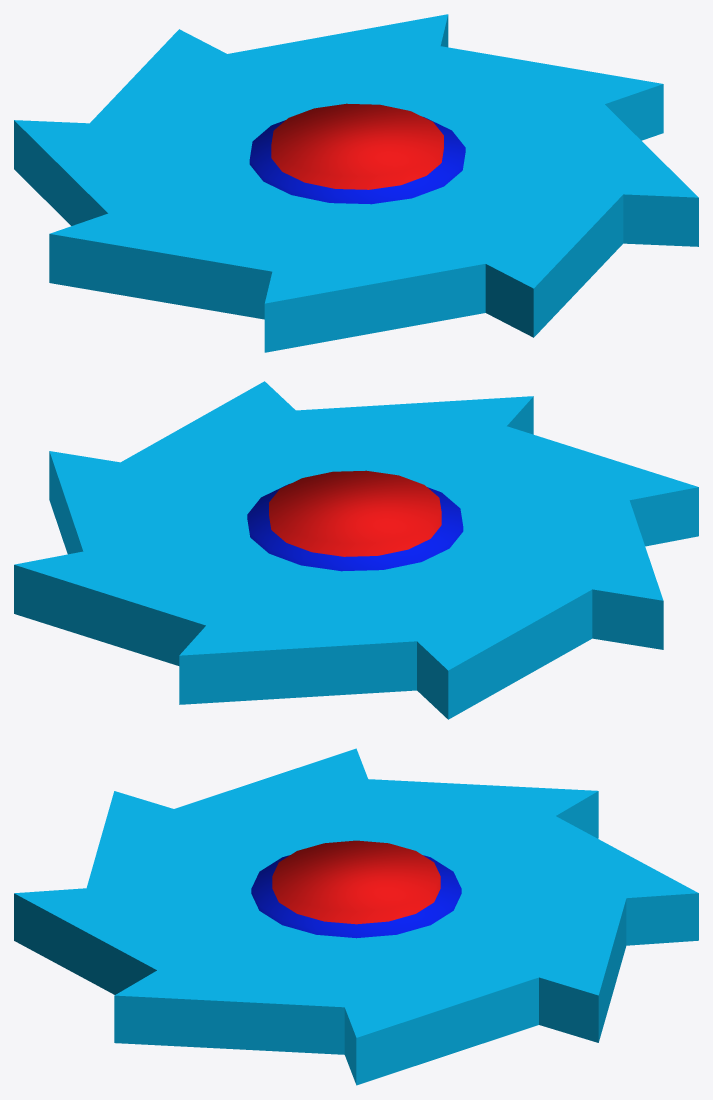
Rendered from testere.fbx.
The picture shows the model from 3 angles, top to bottom: view 1: azimuth 30°, elevation 25°; view 2: azimuth 150°, elevation 25°; view 3: azimuth 270°, elevation 25°; orthographic projection. The views are drawn at different scales.
Visible parts, largest first — view 1: TESTERE; view 2: TESTERE; view 3: TESTERE.
Boxes of the visible parts, x1,y1,x2,y2 form: TESTERE: (14,14,698,352); TESTERE: (14,381,698,719); TESTERE: (14,748,698,1085).
Size of the model in its own units: 2 by 0.2677 by 2.
